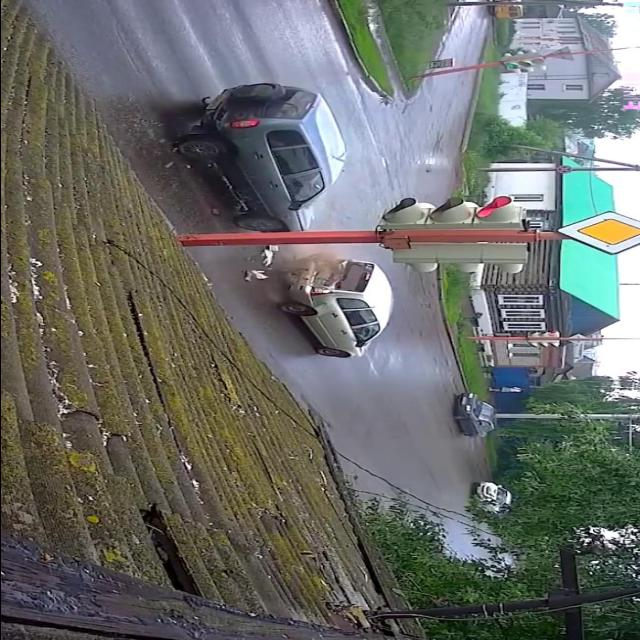accident: (233, 243, 395, 365)
